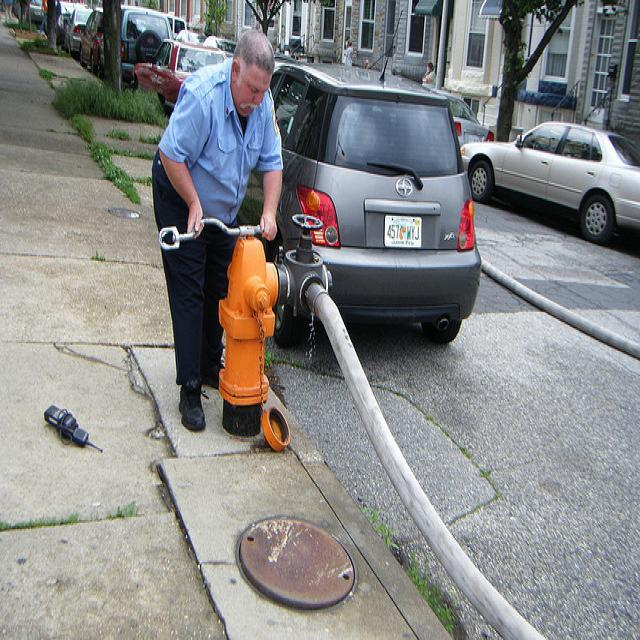fire_hydrant: (216, 228, 292, 446)
